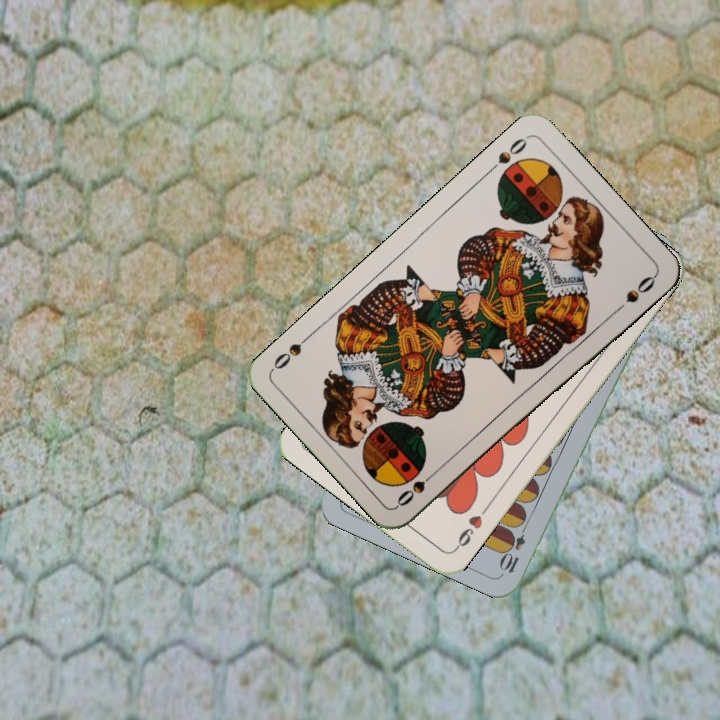E10: (497, 518, 531, 576)
H9: (450, 511, 485, 554)
SO: (392, 465, 442, 510), (483, 132, 531, 177)
